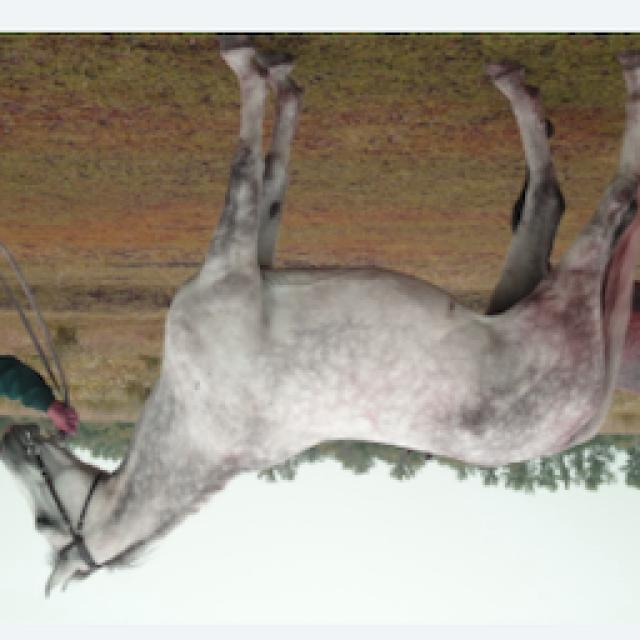Horse: (2, 40, 640, 602)
